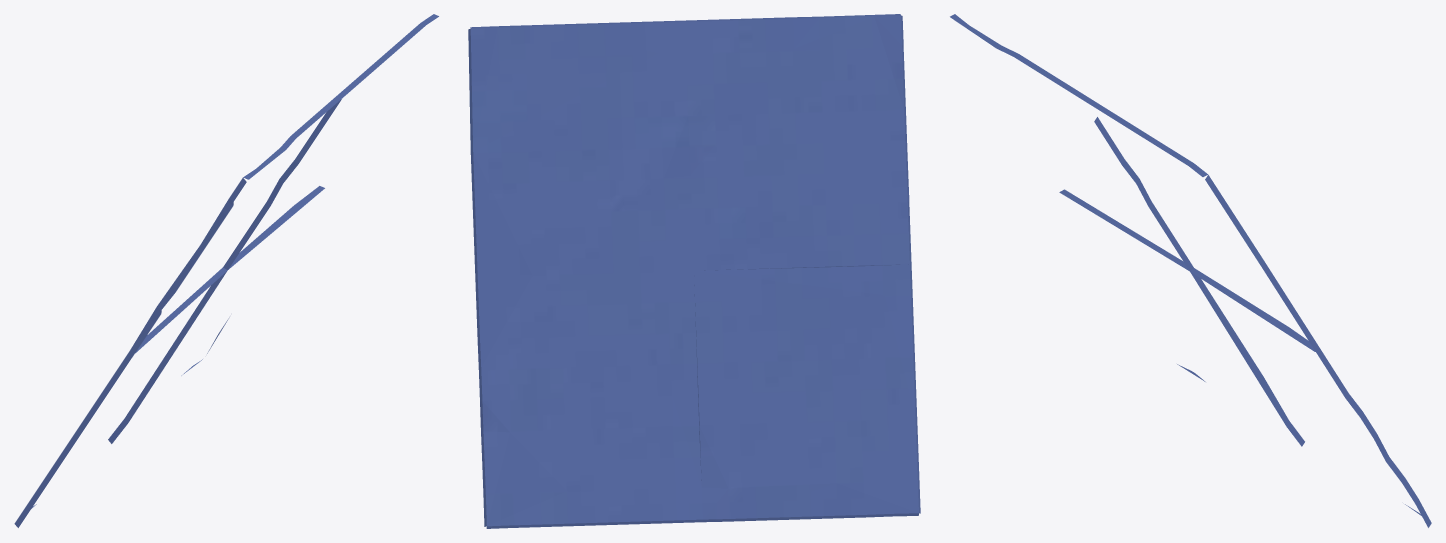
3 renders of one model, left to right at view 1: azimuth 30°, elevation 25°; view 2: azimuth 150°, elevation 25°; view 3: azimuth 270°, elevation 25°, orthographic. The views are drawn at different scales.
Size of the model in its own units: 78947 by 68323 by 71639.
Materials: 1 (1 with a texture image).
